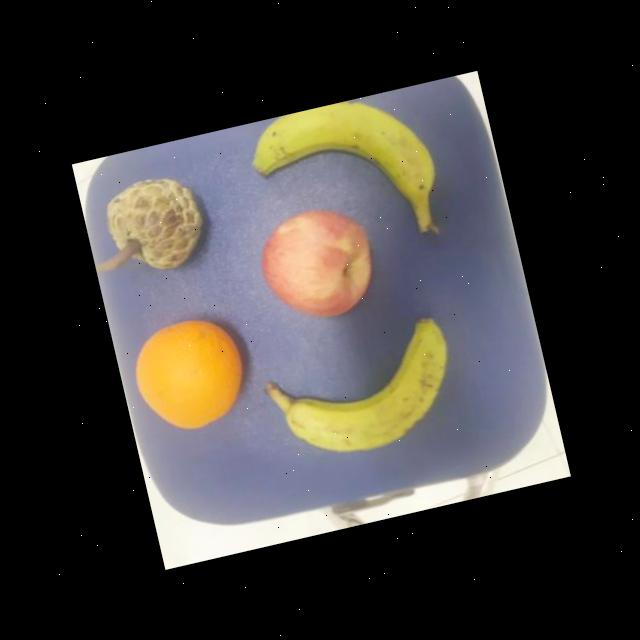Sakya fruit: (94, 164, 220, 290)
apple: (246, 194, 389, 334)
banana: (239, 84, 452, 271), (256, 314, 468, 472)
orange: (122, 308, 255, 441)
